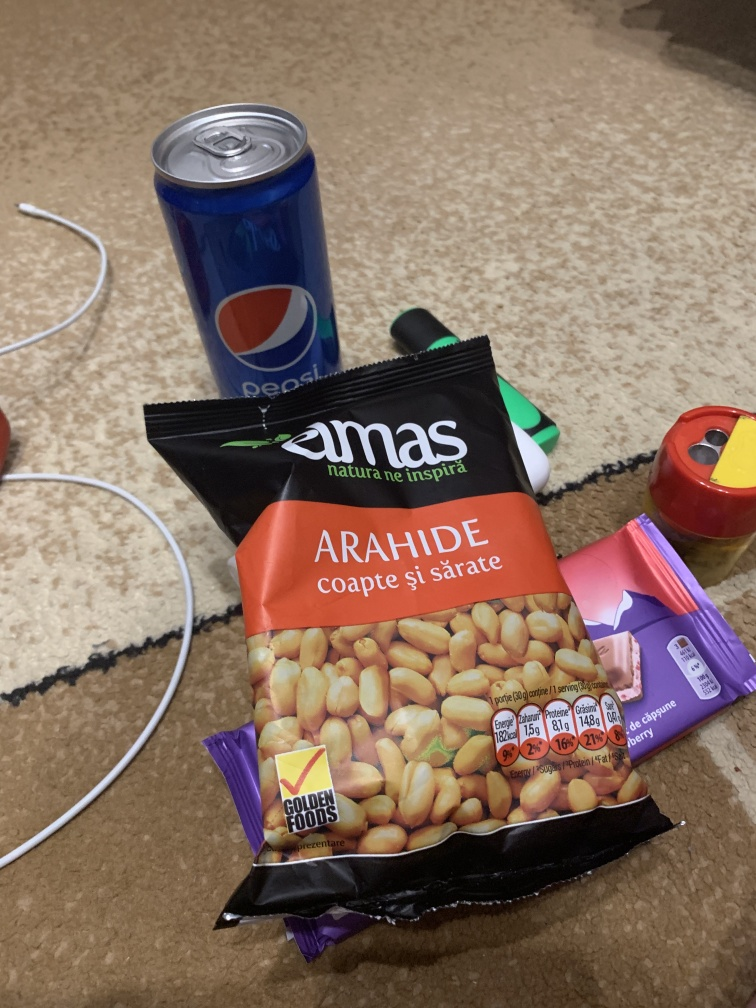milka: (546, 513, 754, 776)
peanuts: (147, 339, 681, 920)
pepsi: (150, 101, 356, 389)
